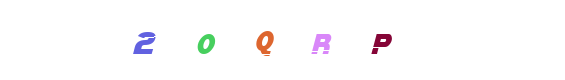2: (166, 0, 246, 80)
O: (187, 0, 267, 80)
P: (341, 0, 421, 80)
Q: (228, 0, 308, 80)
R: (243, 0, 323, 80)
